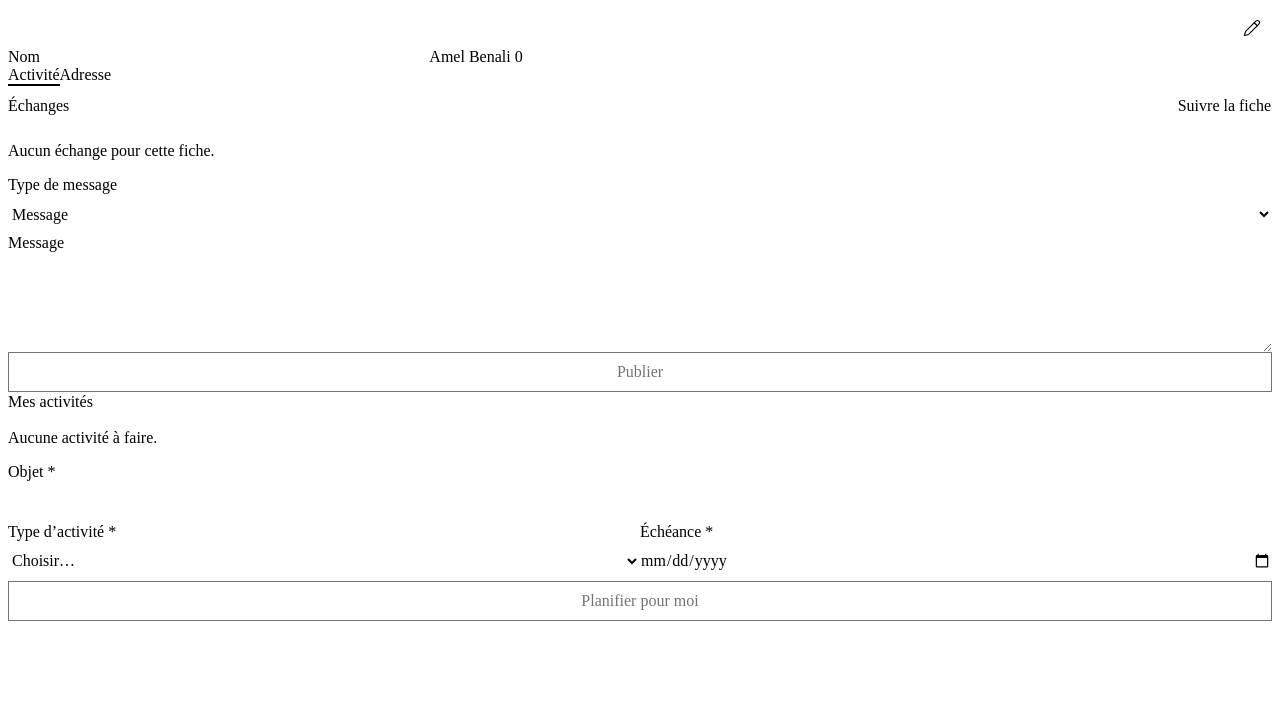
Test: generic chatter drafts › prevents duplicate submissions and clears an accepted draft even if the refresh fails
Type "Une fois" into the text box labelled "Message". click: (640, 302)
box: [8, 252, 1272, 352]
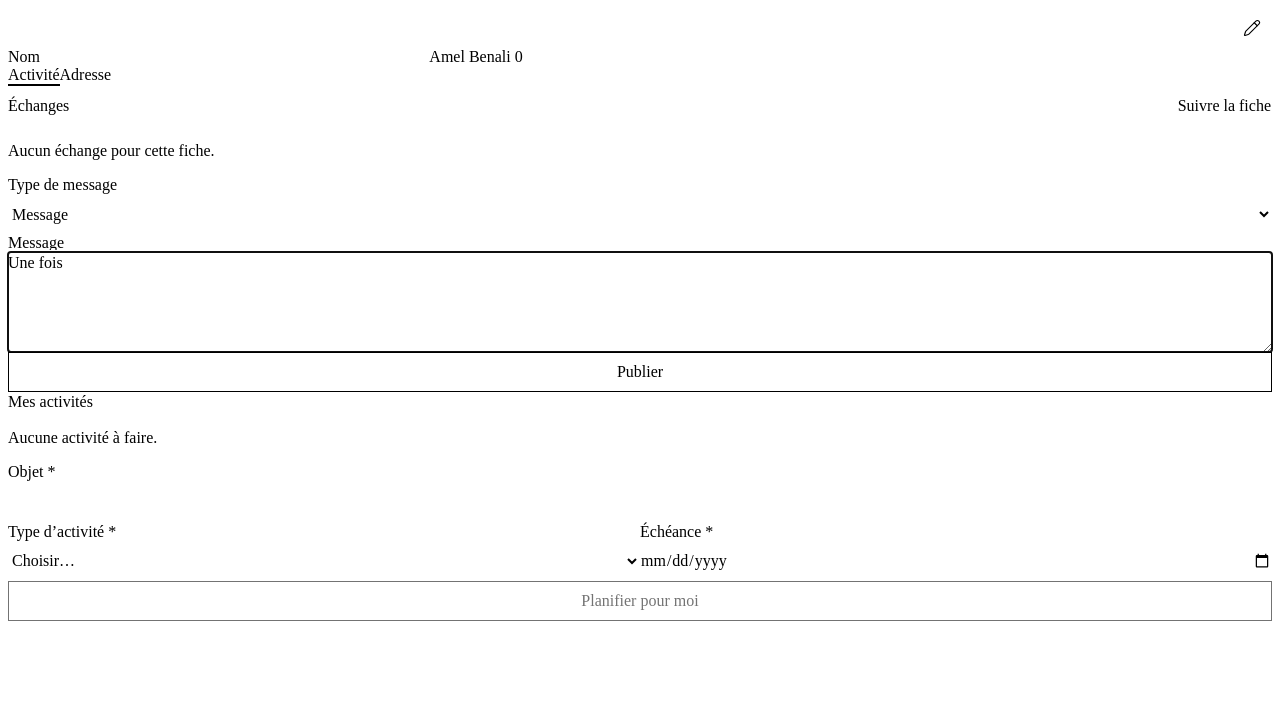
Click the button "Publier". click: (640, 372)
box: [8, 352, 1272, 392]
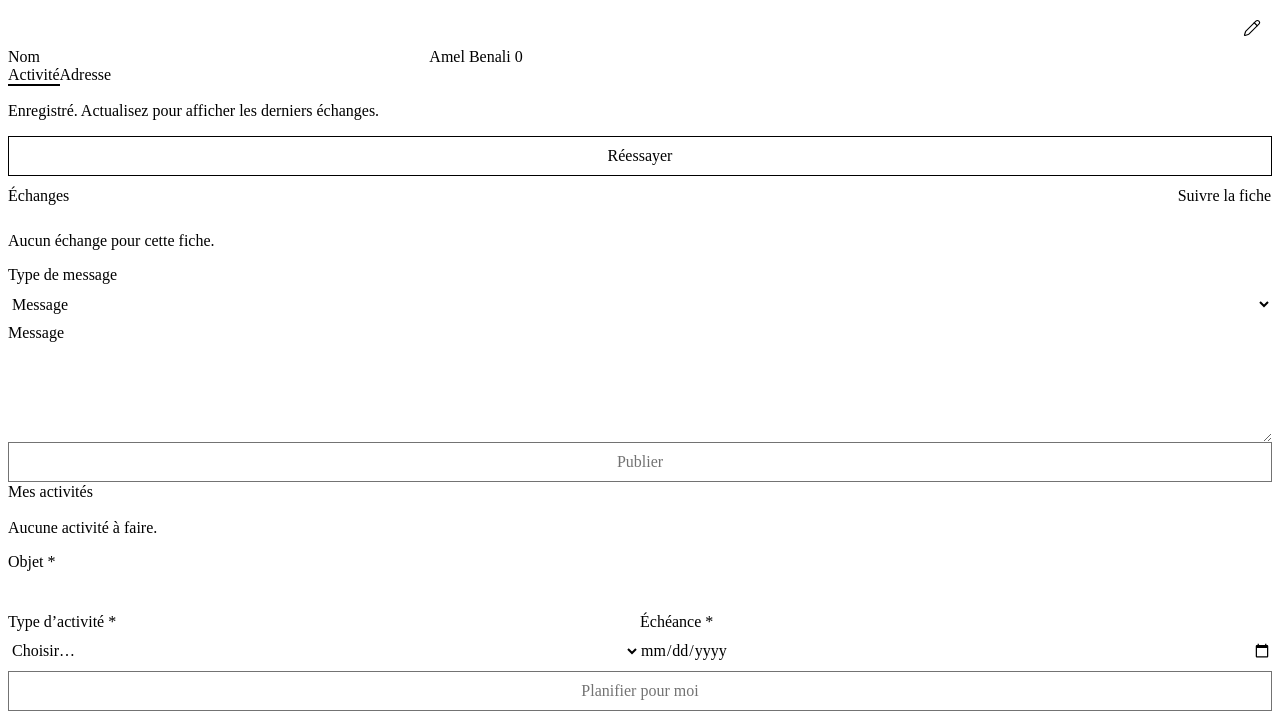
Expected: the button "Publier" is disabled, [8, 442, 1272, 482]
Expected: the text "Enregistré. Actualisez pour afficher les derniers échanges." is shown, [8, 102, 379, 119]
Expected: the text box labelled "Message" is empty, [8, 342, 1272, 442]
